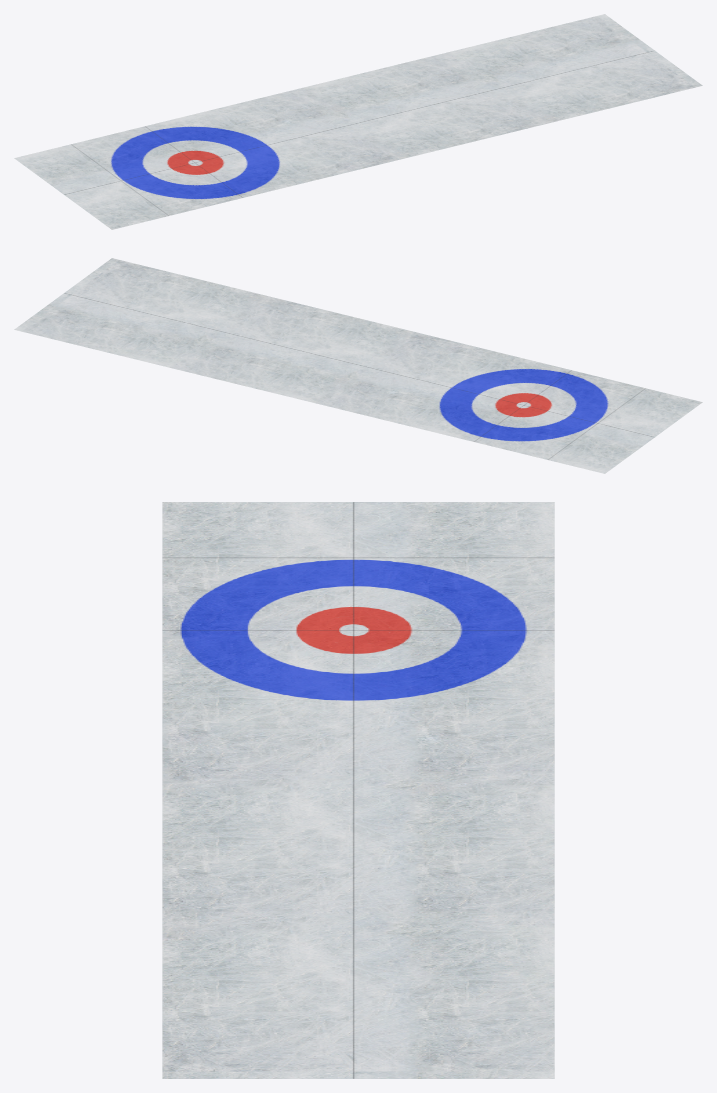
The model's file is plane_icerink.fbx.
The picture shows the model from 3 angles, top to bottom: view 1: azimuth 30°, elevation 25°; view 2: azimuth 150°, elevation 25°; view 3: azimuth 270°, elevation 25°; orthographic projection. The views are drawn at different scales.
Visible parts, largest first — view 1: pPlane1; view 2: pPlane1; view 3: pPlane1.
Boxes of the visible parts, x1,y1,x2,y2 form: pPlane1: (14, 14, 702, 229); pPlane1: (14, 258, 702, 473); pPlane1: (162, 502, 554, 1078).
Bounding box in the file's own units: 12.12 × 1.16e-15 × 3.48.
1 material, 1 textured.
